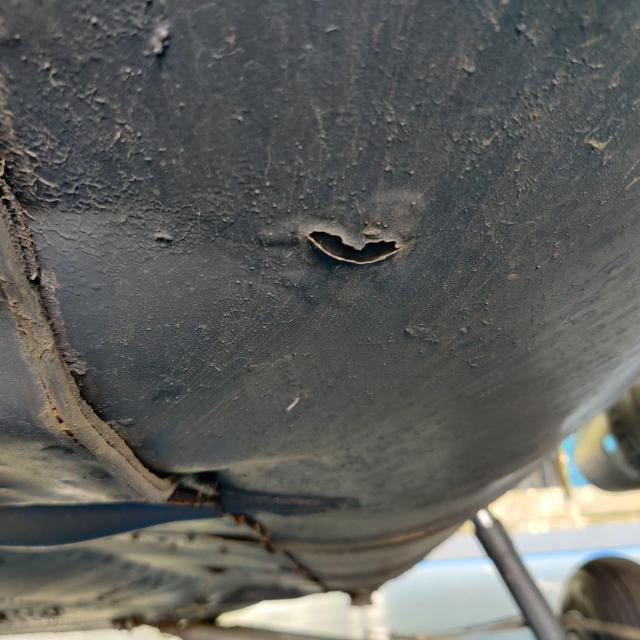paint-off: (279, 205, 429, 286)
